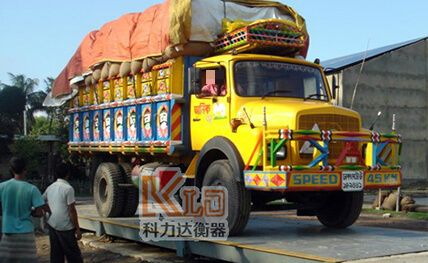truck: (66, 22, 401, 231)
